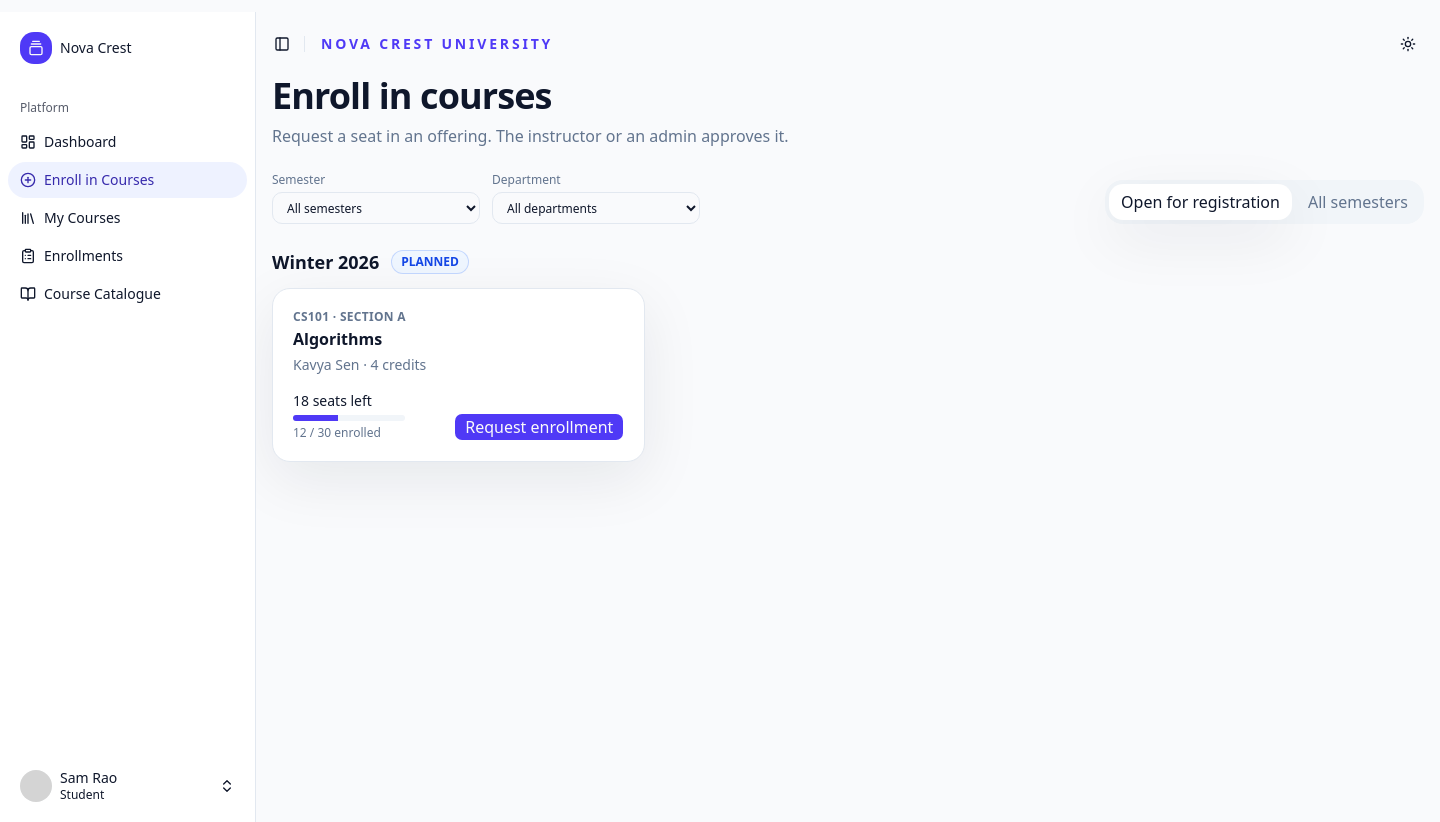
Test: BrowseOfferingsView › requests enrollment and shows the new status
Click the button "Request enrollment" at (539, 427), box [454, 413, 624, 441]
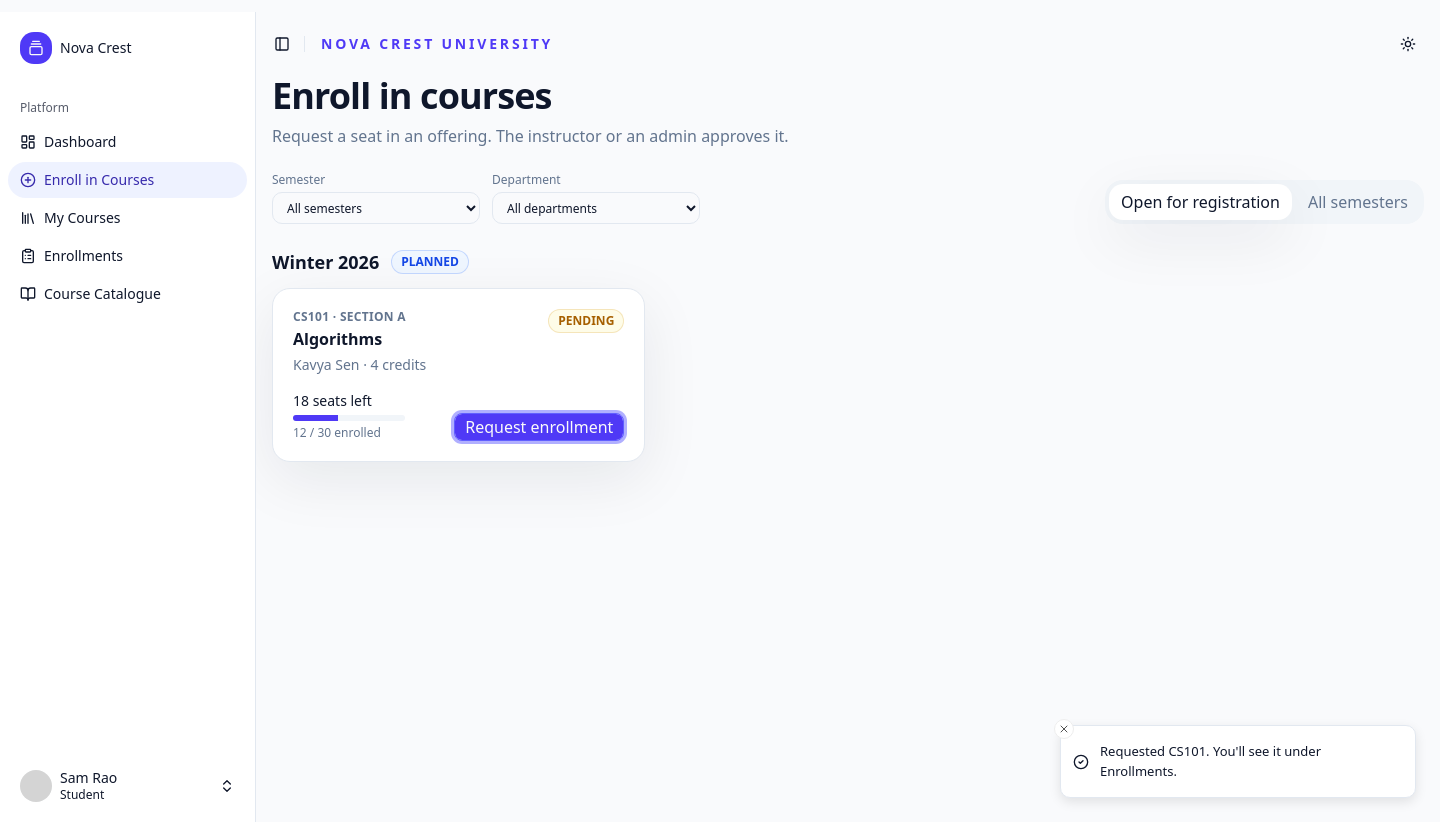
Result: the text "Requested CS101. You'll see it under Enrollments." is shown at [1100, 742, 1321, 780]
Result: the text "PENDING" is shown at [548, 309, 624, 333]
